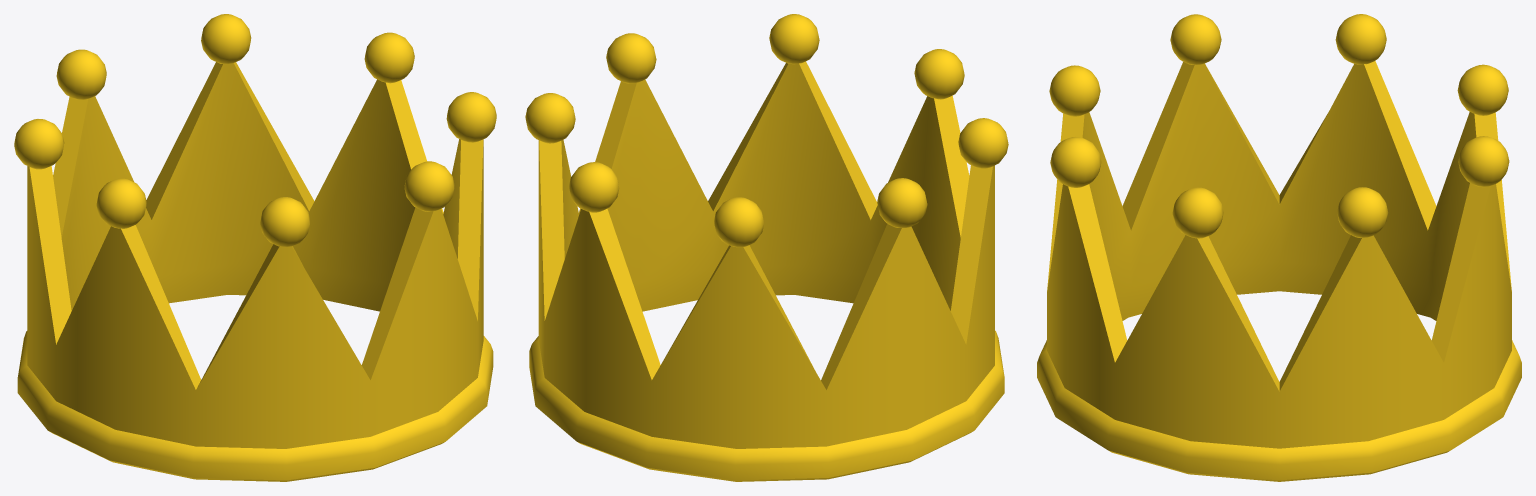
The model's file is Couronne1.fbx.
3 renders of one model, left to right at view 1: azimuth 30°, elevation 25°; view 2: azimuth 150°, elevation 25°; view 3: azimuth 270°, elevation 25°, orthographic.
Visible parts, largest first — view 1: Cylinder; view 2: Cylinder; view 3: Cylinder.
Part boxes in pixels (x1,y1,x2,y2): Cylinder: (14,14,496,481); Cylinder: (525,14,1008,481); Cylinder: (1037,14,1521,481).
Bounding box in the file's own units: 271 × 172 × 271.
